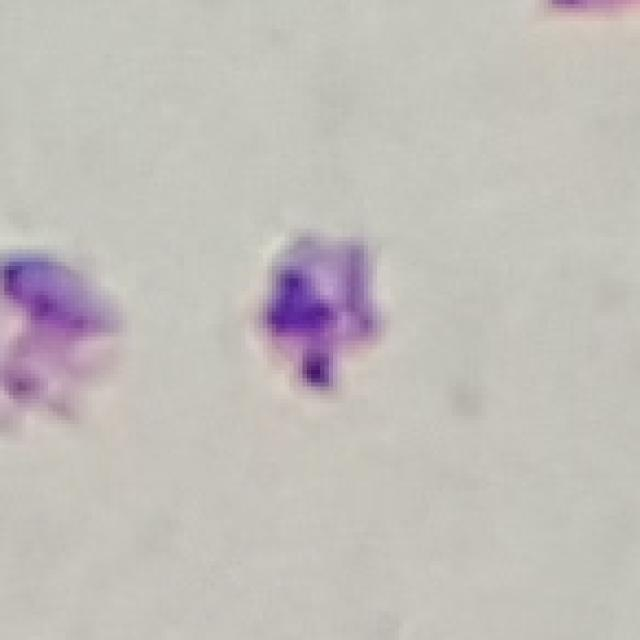non-sperm: (254, 222, 390, 404), (0, 244, 127, 430)
